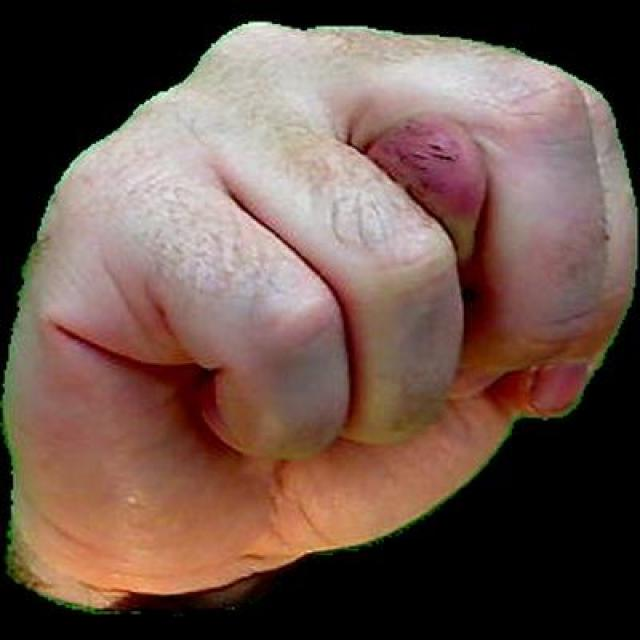n: (0, 0, 637, 624)
